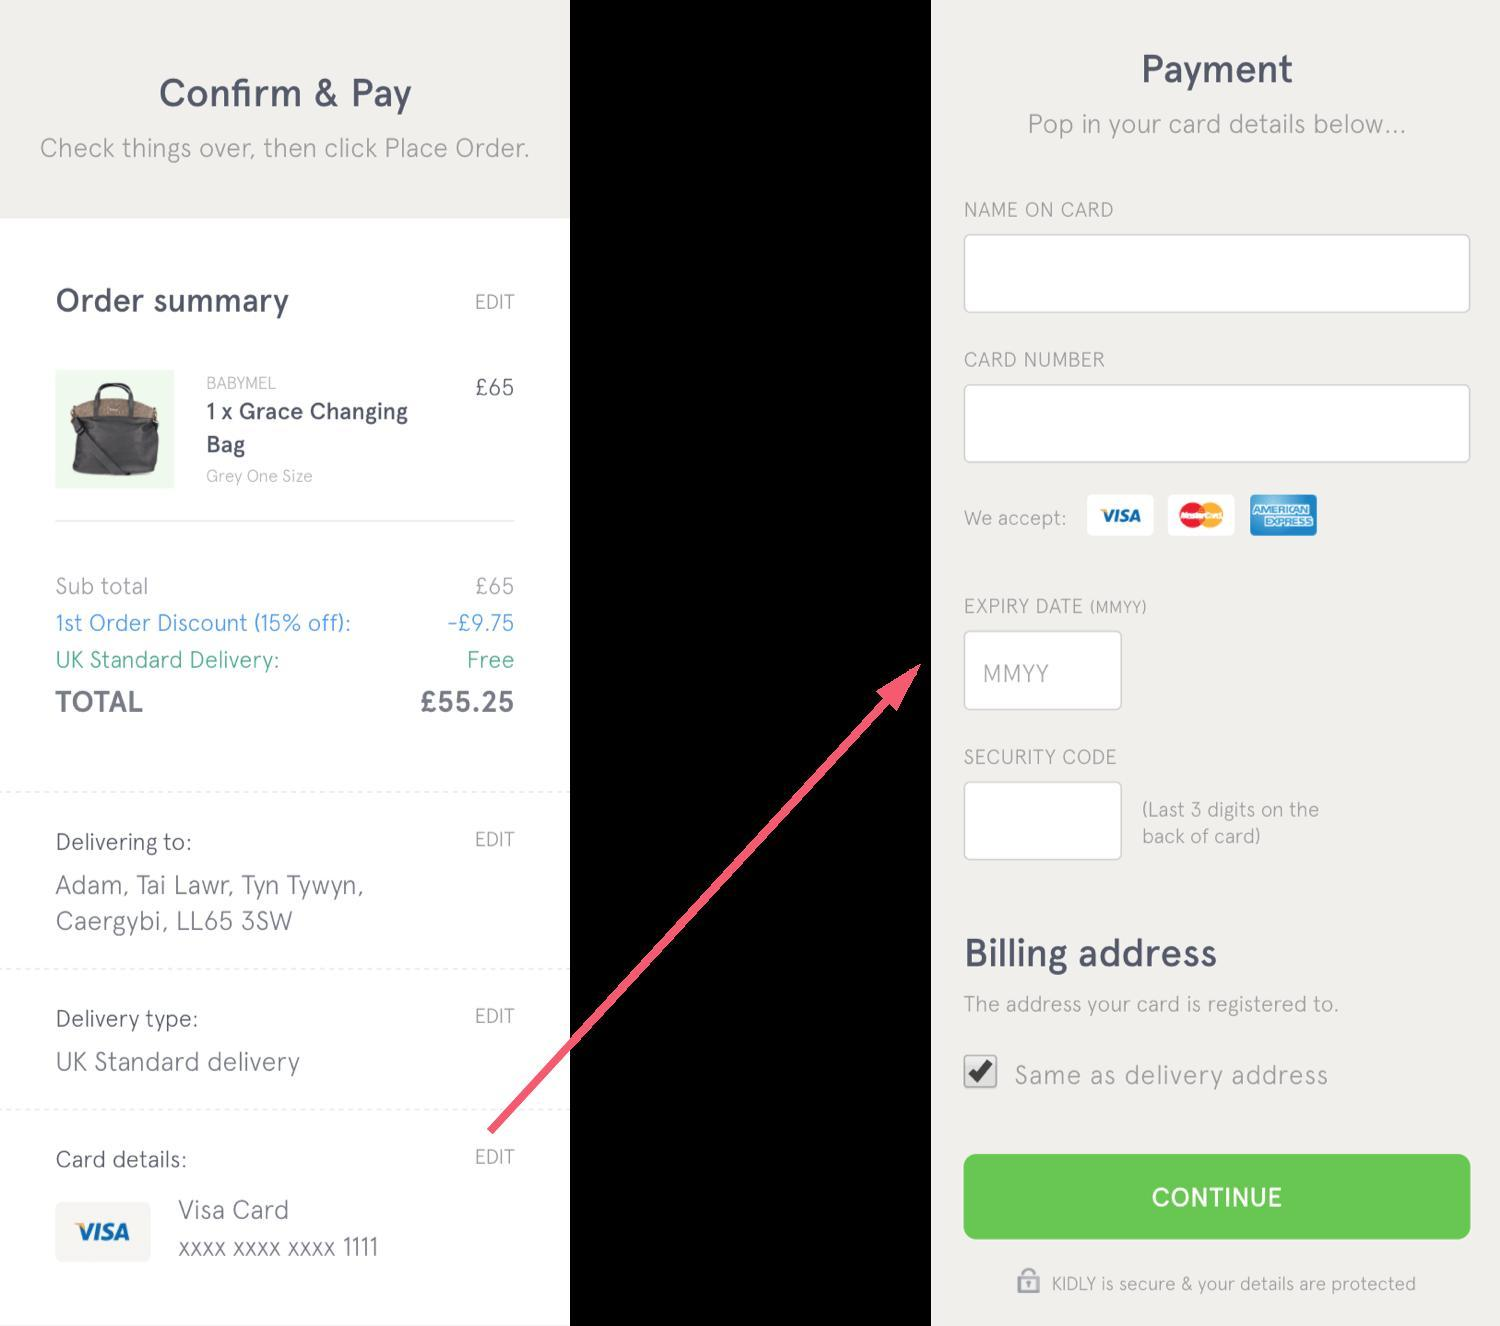button: (959, 1153, 1473, 1244)
checkbox: (961, 1053, 1001, 1092)
input: (964, 236, 1471, 316), (965, 384, 1469, 461), (964, 628, 1122, 712), (965, 785, 1121, 861)
label: (1015, 1061, 1332, 1096), (956, 587, 1145, 621), (959, 195, 1119, 224), (966, 342, 1105, 372), (959, 745, 1121, 771), (959, 504, 1071, 532)
